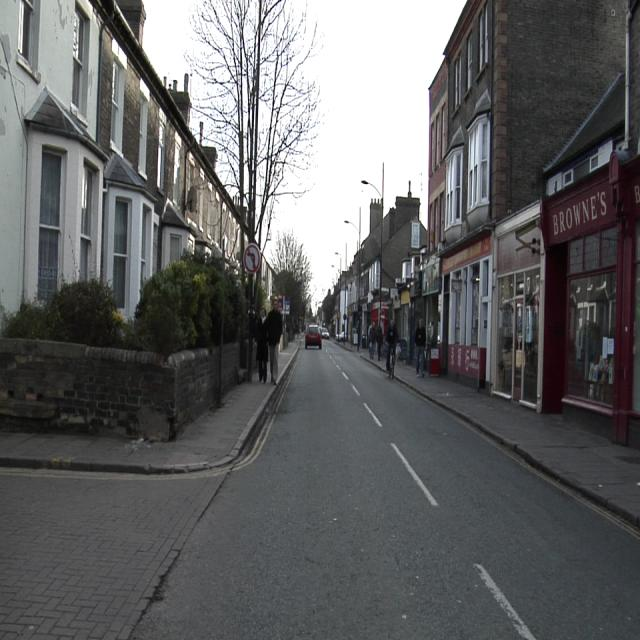Building: (325, 0, 636, 440), (3, 3, 240, 318)
Car: (306, 325, 321, 347)
Road: (132, 342, 639, 637)
Tree: (188, 1, 321, 245), (136, 254, 242, 358), (6, 281, 122, 345), (271, 232, 312, 302)
person: (265, 300, 283, 379)
